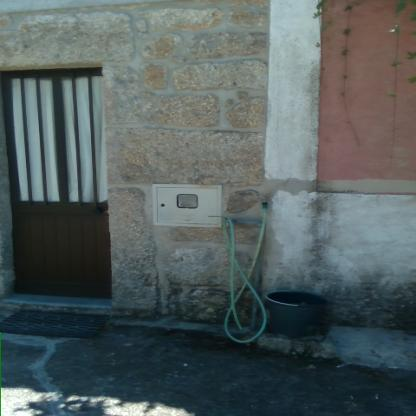closed: (0, 53, 125, 318)
